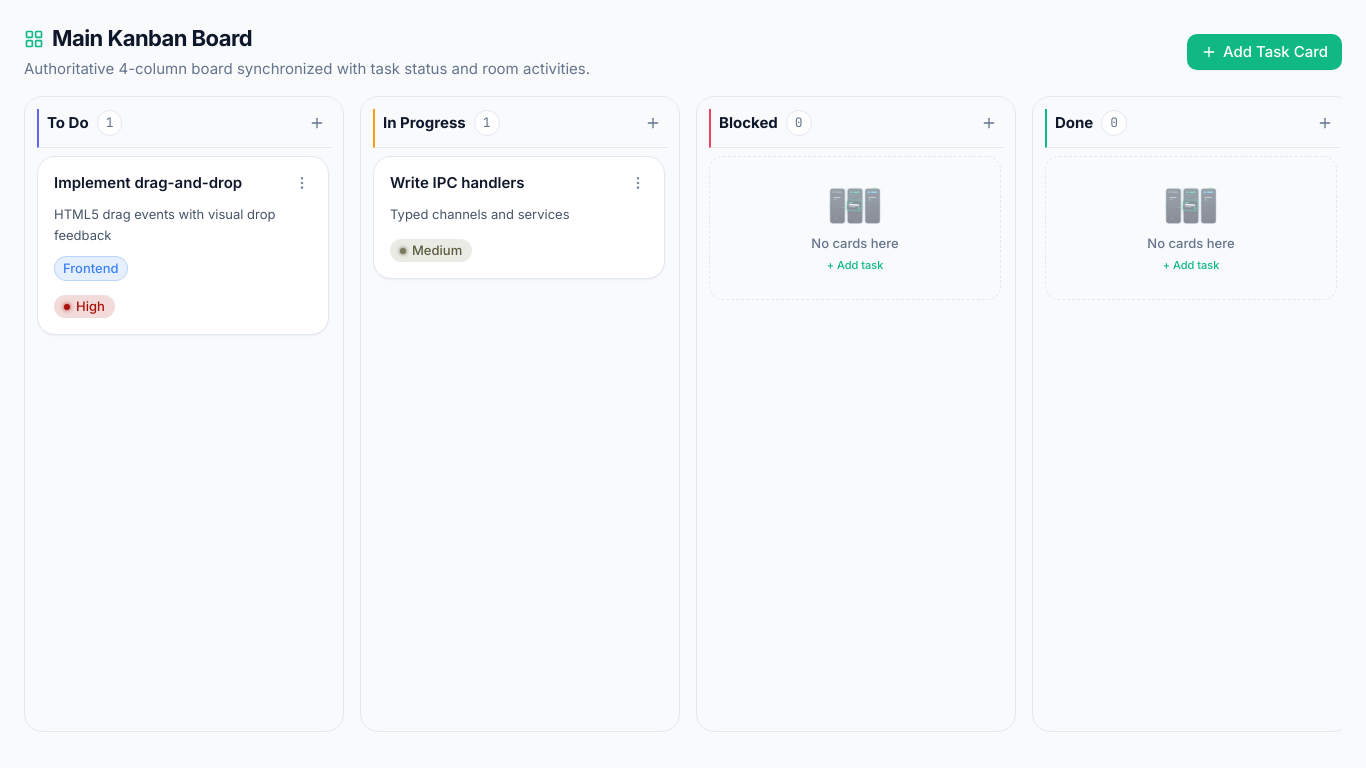
káno̱ Desktop Kanban Board › rolls back optimistic move if moveTask RPC fails
Expected: the text "Implement drag-and-drop" is shown, x1=54 y1=173 x2=242 y2=192
Note: Trigger move
Step 1. Click the button named "Task options" next to "Implement drag-and-drop" → (302, 183), box x1=288 y1=169 x2=316 y2=197
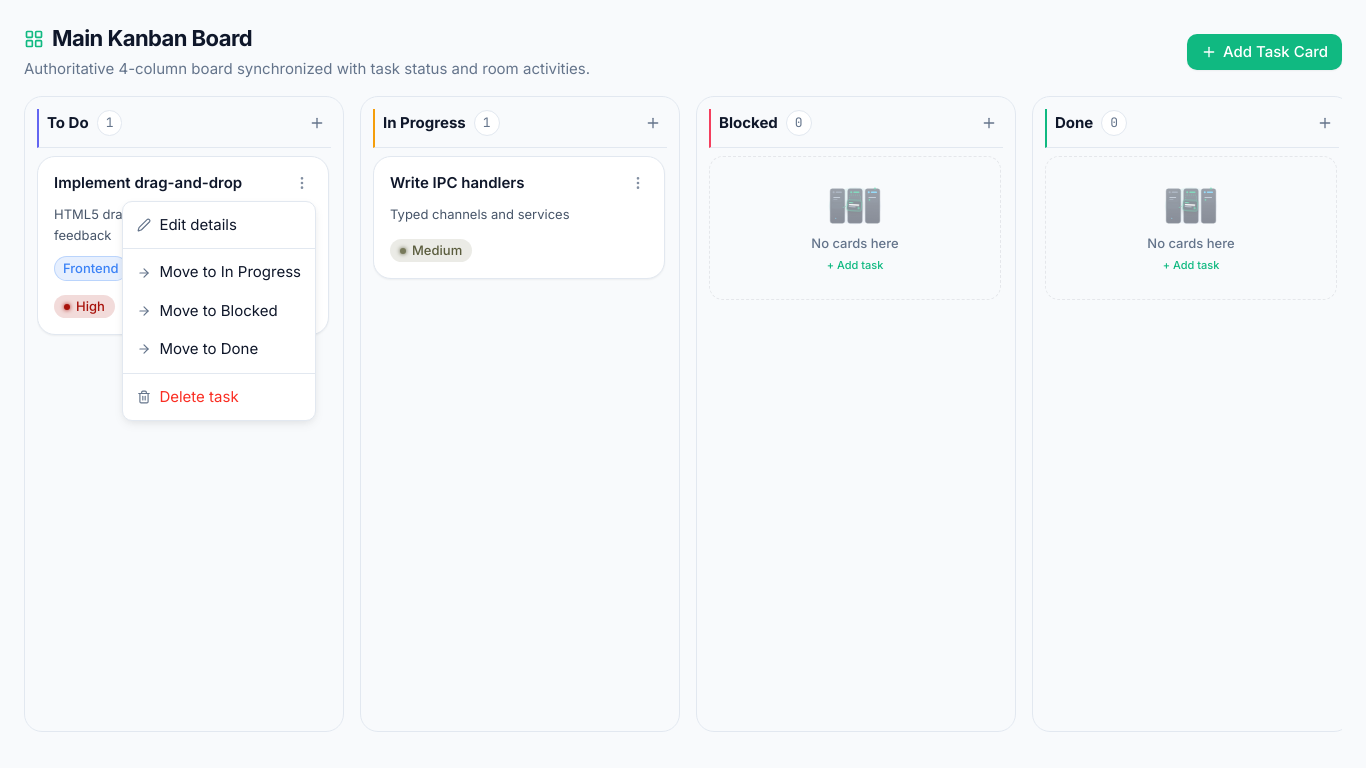
Step 2. Click the menu item "Move to Done" → (219, 349), box x1=123 y1=330 x2=315 y2=369
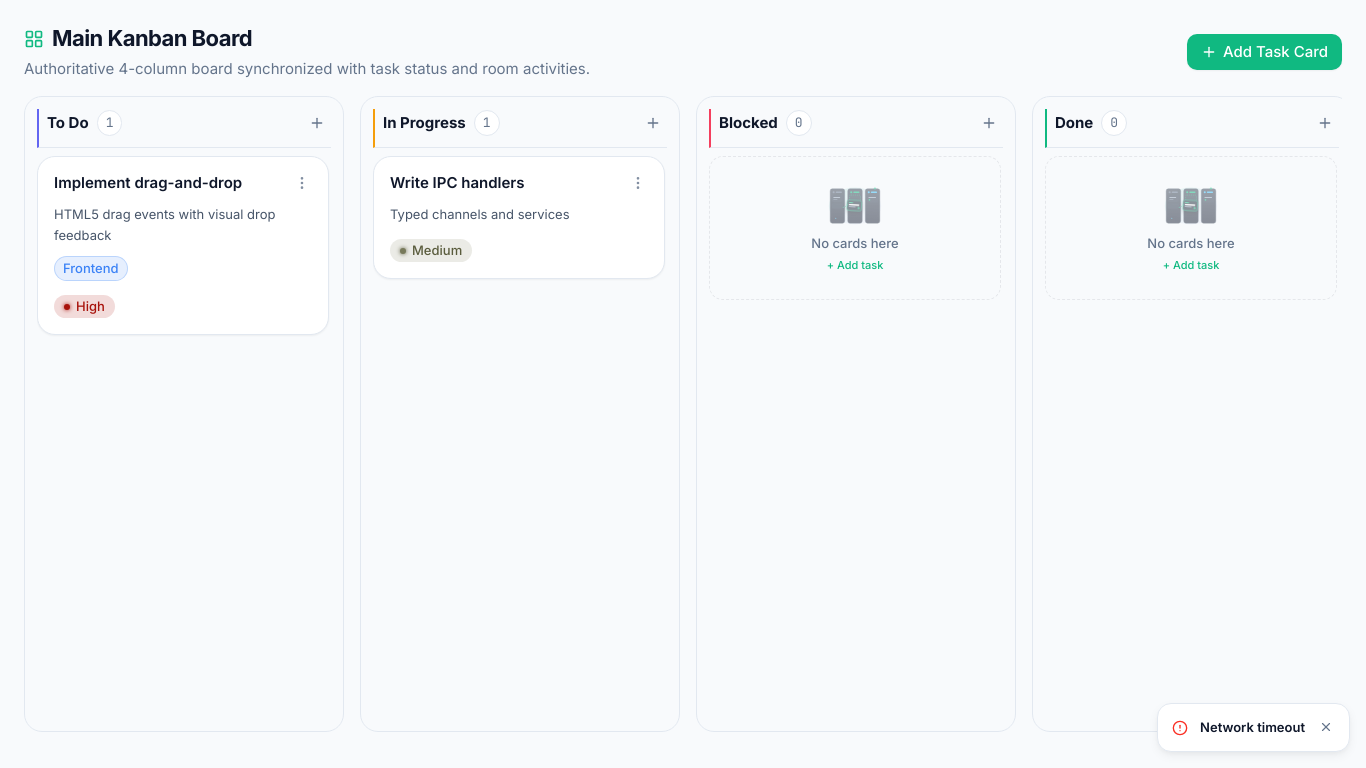
Expected: the heading "Network timeout" is shown, x1=1200 y1=718 x2=1305 y2=737
